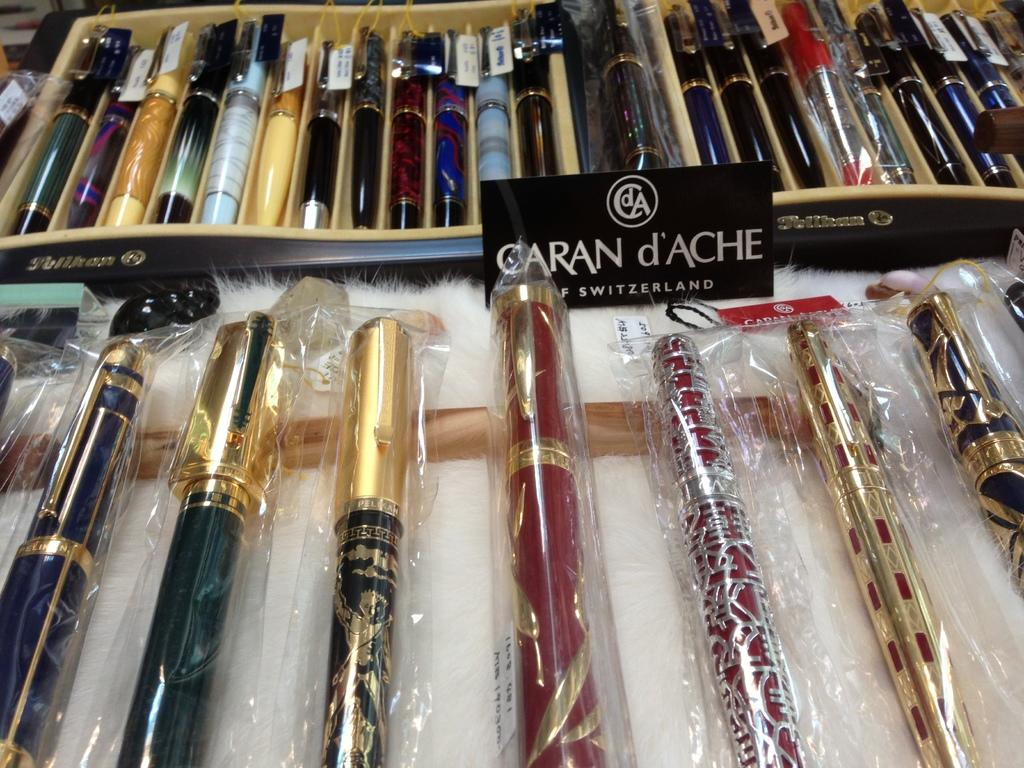pen: (789, 324, 988, 758), (649, 332, 820, 767), (117, 312, 278, 759), (3, 339, 149, 767), (492, 278, 611, 764), (326, 311, 415, 767), (903, 288, 1023, 600), (1, 37, 131, 232), (106, 19, 201, 228), (821, 0, 922, 193), (866, 0, 972, 181), (145, 12, 237, 220), (927, 0, 1023, 193), (196, 12, 282, 221), (239, 31, 329, 226), (65, 51, 159, 232), (711, 1, 787, 198), (587, 0, 671, 169), (804, 0, 870, 195), (288, 41, 350, 232), (346, 16, 396, 243), (765, 0, 825, 186), (468, 22, 521, 227), (670, 0, 731, 173), (955, 15, 1023, 166), (429, 21, 469, 227), (513, 0, 555, 188), (391, 26, 427, 230), (1004, 275, 1023, 319)
